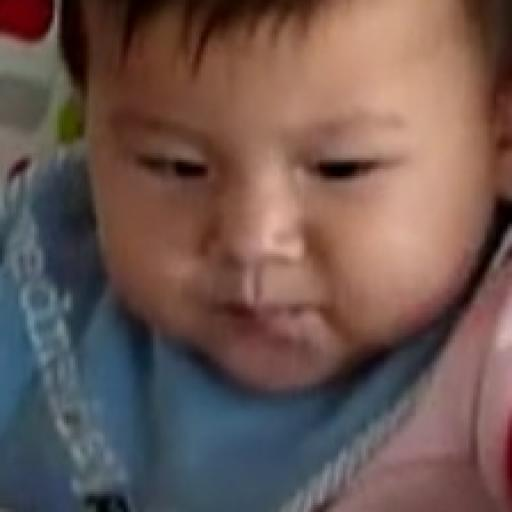Autism: (68, 0, 512, 404)
